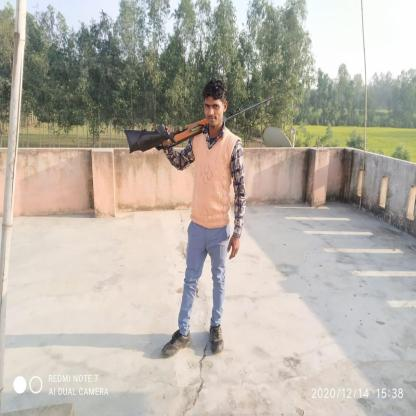rifle: (122, 95, 274, 155)
